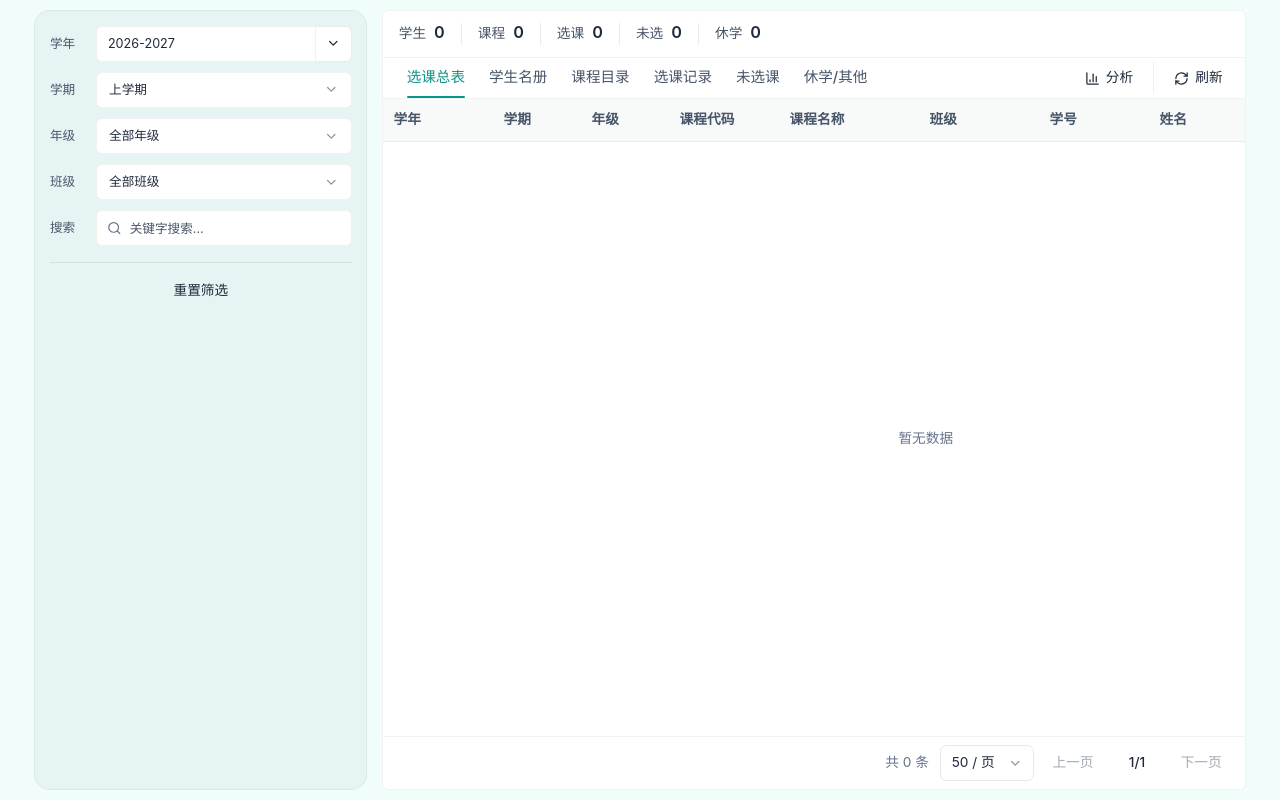
Test: XBK grade options › offers 高三 in the filter bar and filters by it
Check: the text "暂无数据" is shown, box [898,430,953,446]
Click the dropdown labelled "年级": (224, 136) [96,118,352,154]
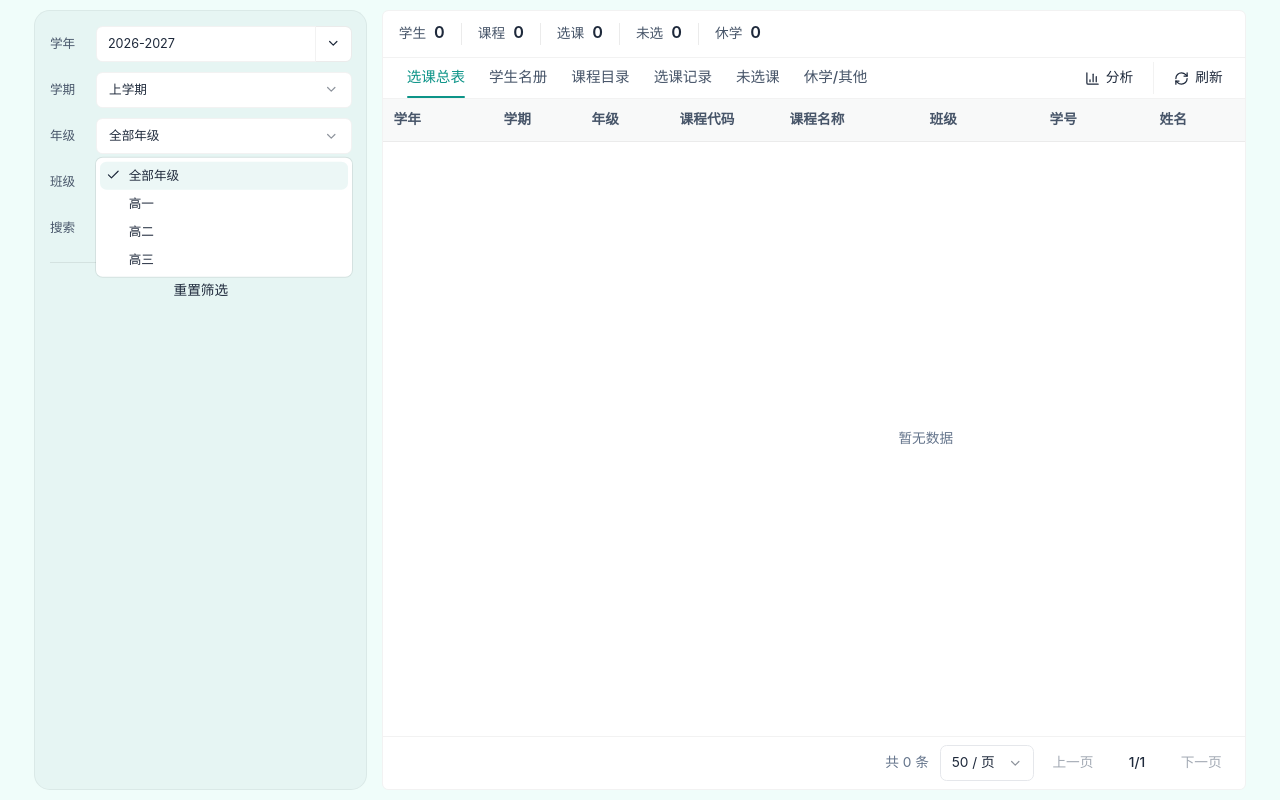
Check: the option "高一" is shown, box [129,195,154,210]
Check: the option "高二" is shown, box [129,223,154,238]
Click the option "高三": (141, 259) [129,251,154,266]
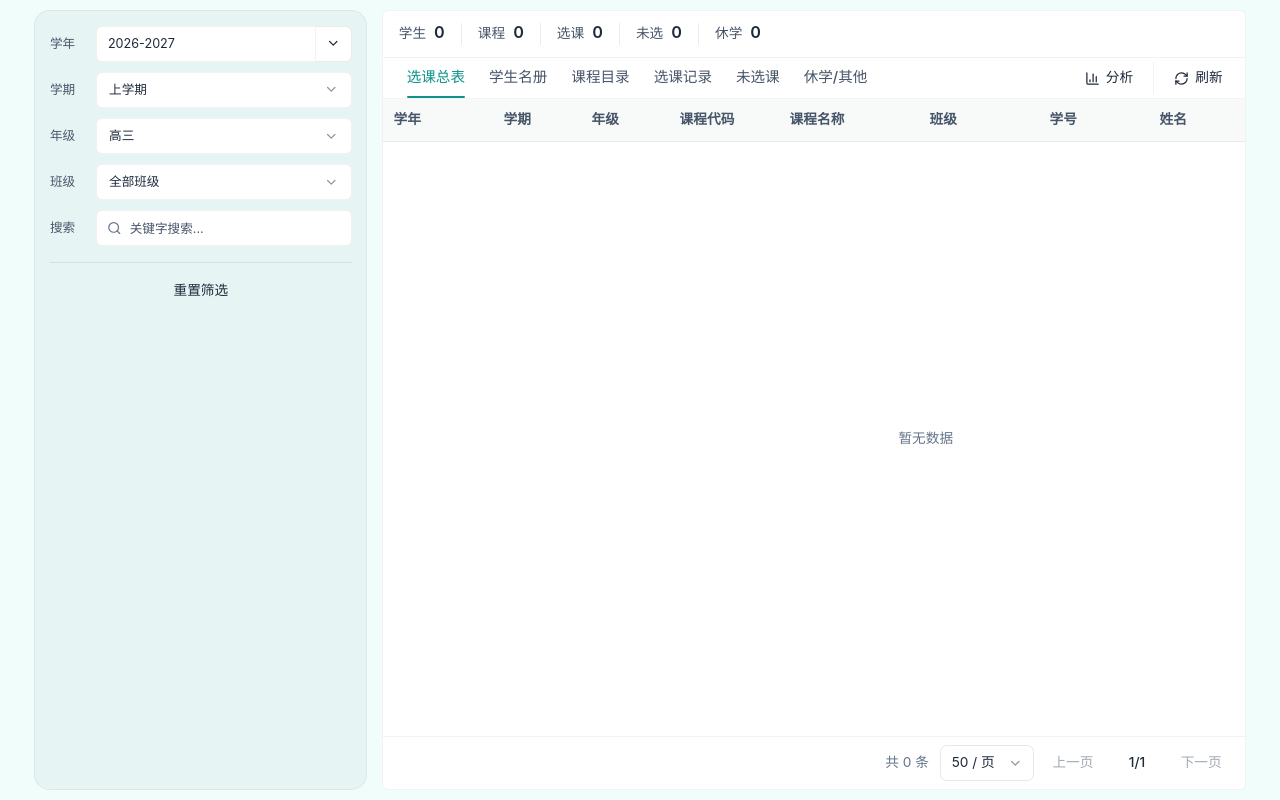
Check: the dropdown named "年级" reads "高三", box [96,118,352,154]
